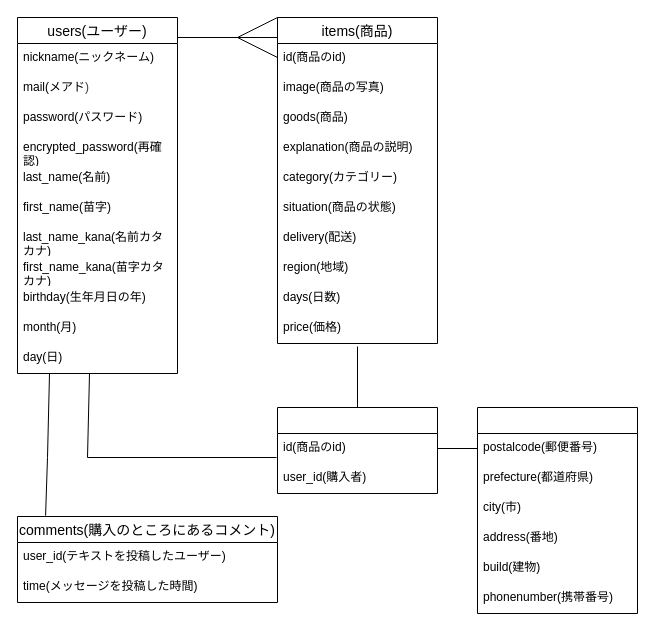
This 655x634 diagram has some shape labels left out. Each missing label, with the box of its shape:
addresses(配送先): (476, 406, 638, 614)
order(購入): (276, 406, 438, 494)
